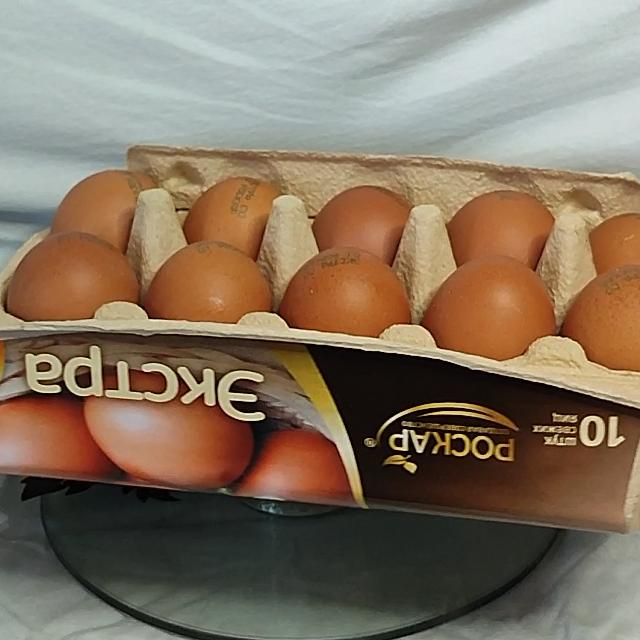egg: (0, 129, 640, 546)
